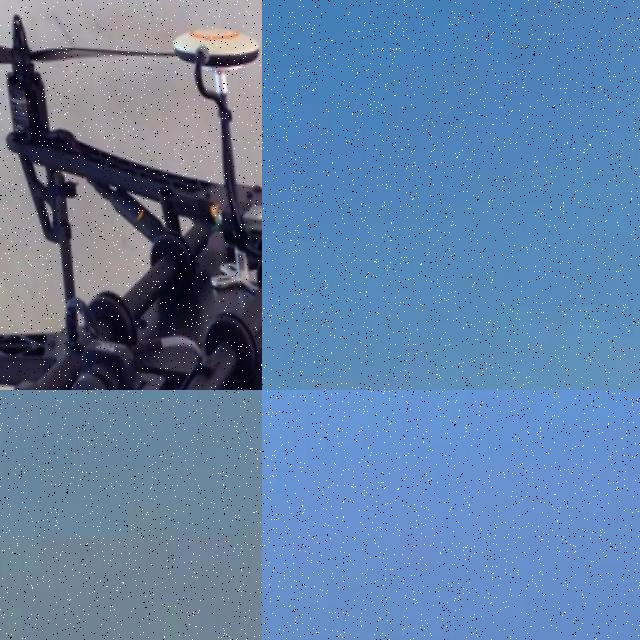drone: (0, 0, 262, 390)
